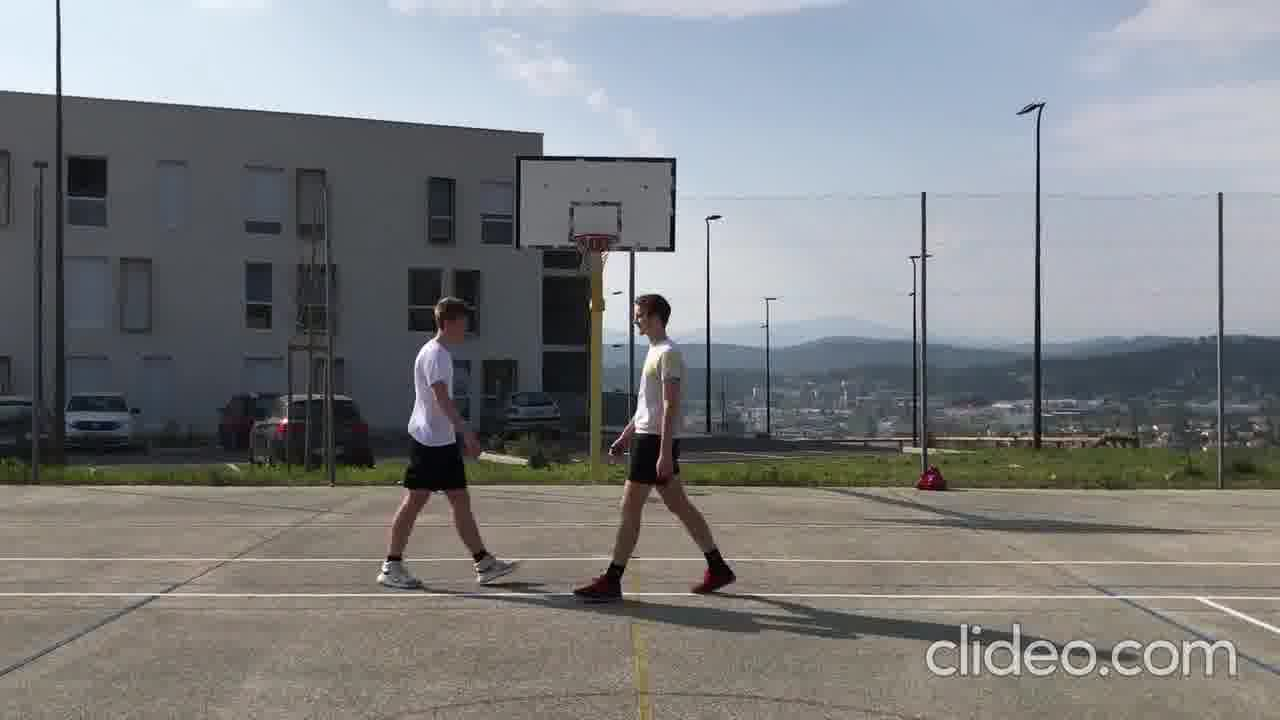jugador: (554, 283, 742, 611)
